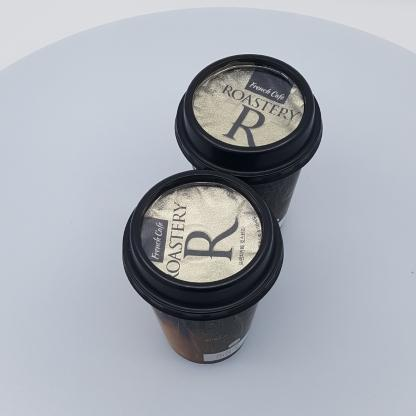--------------------: (122, 170, 284, 364), (174, 54, 323, 232)
